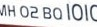character: (71, 3, 83, 21), (90, 3, 97, 23), (19, 5, 29, 18), (42, 6, 52, 19), (52, 6, 62, 19), (30, 5, 39, 19), (7, 4, 16, 17), (84, 3, 89, 22), (65, 3, 70, 21)
